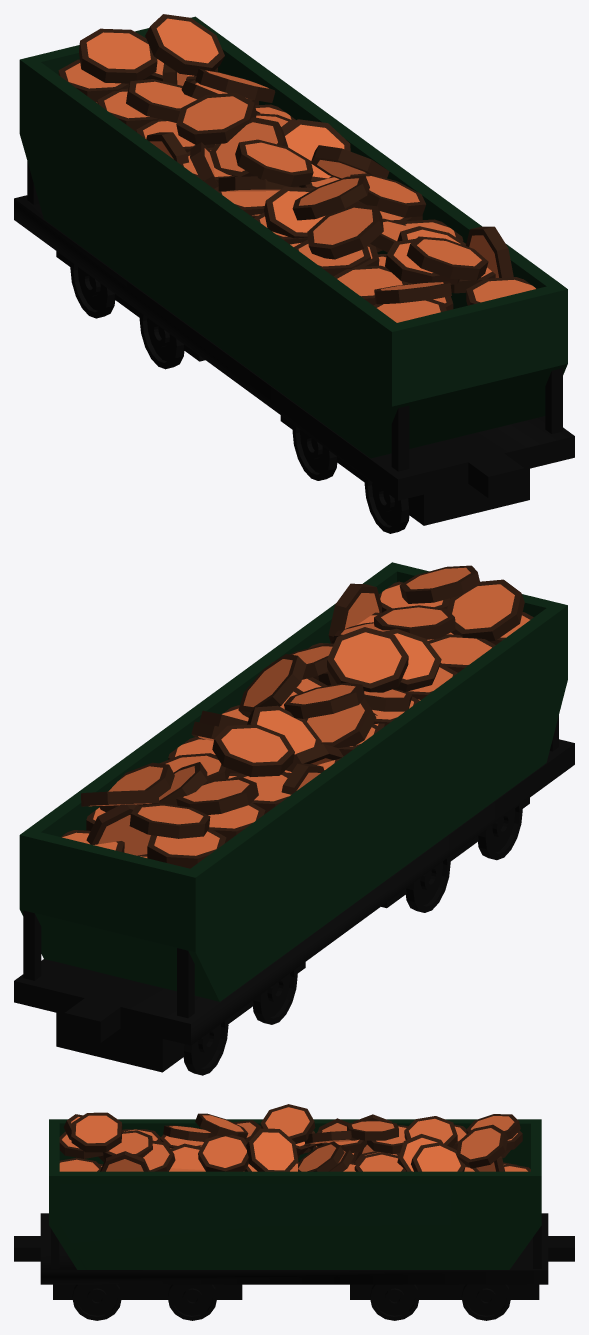
The model's file is cabin One_0605.obj.
3 views of the same model, one above another, from view 1: azimuth 30°, elevation 25°; view 2: azimuth 150°, elevation 25°; view 3: azimuth 270°, elevation 25° (orthographic). The views are drawn at different scales.
Visible parts, largest first — view 1: cabin_Cube.021, cabin_set_Cube.009, wood.003_Circle.076, wood.015_Circle.049, wood.033_Circle.067, wood.005_Circle.078, cabin_set1_Cube.013, wood.017_Circle.051, wood.039_Circle.073, wood.028_Circle.062, wood.032_Circle.066, wood.038_Circle.072 (+19 smaller); view 2: cabin_Cube.021, cabin_set_Cube.009, wood.003_Circle.076, wood.038_Circle.072, cabin_set2_Cube.016, wood.014_Circle.046, wood.017_Circle.051, wood.005_Circle.078, wood.037_Circle.071, wood.015_Circle.049, wood.032_Circle.066, wood.016_Circle.050 (+21 smaller); view 3: cabin_Cube.021, cabin_set_Cube.009, wood.003_Circle.076, wood.037_Circle.071, wood.032_Circle.066, wood.033_Circle.067, wood.030_Circle.064, cabin_set1_Cube.013, Circle_Circle.079, Circle.001_Circle.080, Circle.002_Circle.081, cabin_set2_Cube.016 (+21 smaller).
Part boxes in pixels (<box>): cabin_Cube.021: <box>19,16,567,458</box>; cabin_set_Cube.009: <box>14,195,574,500</box>; wood.003_Circle.076: <box>58,59,446,322</box>; wood.015_Circle.049: <box>79,28,157,83</box>; wood.033_Circle.067: <box>145,14,224,75</box>; wood.005_Circle.078: <box>143,59,536,305</box>; cabin_set1_Cube.013: <box>280,415,529,525</box>; wood.017_Circle.051: <box>176,93,256,144</box>; wood.039_Circle.073: <box>307,204,383,259</box>; wood.028_Circle.062: <box>235,139,313,186</box>; wood.032_Circle.066: <box>406,236,488,280</box>; wood.038_Circle.072: <box>292,175,369,220</box>; cabin_Cube.021: <box>19,562,567,1001</box>; cabin_set_Cube.009: <box>14,739,574,1045</box>; wood.003_Circle.076: <box>147,612,533,868</box>; wood.038_Circle.072: <box>327,627,408,692</box>; cabin_set2_Cube.016: <box>56,962,305,1072</box>; wood.014_Circle.046: <box>447,579,524,641</box>; wood.017_Circle.051: <box>212,724,294,776</box>; wood.005_Circle.078: <box>61,581,450,852</box>; wood.037_Circle.071: <box>238,654,306,717</box>; wood.015_Circle.049: <box>129,803,210,838</box>; wood.032_Circle.066: <box>399,565,480,603</box>; wood.016_Circle.050: <box>176,777,258,814</box>; cabin_Cube.021: <box>49,1119,541,1269</box>; cabin_set_Cube.009: <box>14,1213,574,1284</box>; wood.003_Circle.076: <box>59,1124,522,1158</box>; wood.037_Circle.071: <box>246,1128,298,1171</box>; wood.032_Circle.066: <box>71,1112,122,1152</box>; wood.033_Circle.067: <box>456,1124,507,1168</box>; wood.030_Circle.064: <box>198,1135,248,1171</box>; cabin_set1_Cube.013: <box>53,1284,242,1299</box>; Circle_Circle.079: <box>461,1284,510,1320</box>; Circle.001_Circle.080: <box>370,1284,419,1320</box>; Circle.002_Circle.081: <box>168,1284,217,1320</box>; cabin_set2_Cube.016: <box>350,1284,539,1299</box>.
Bounding box in the file's own units: 1.92 × 2.84 × 7.95.
